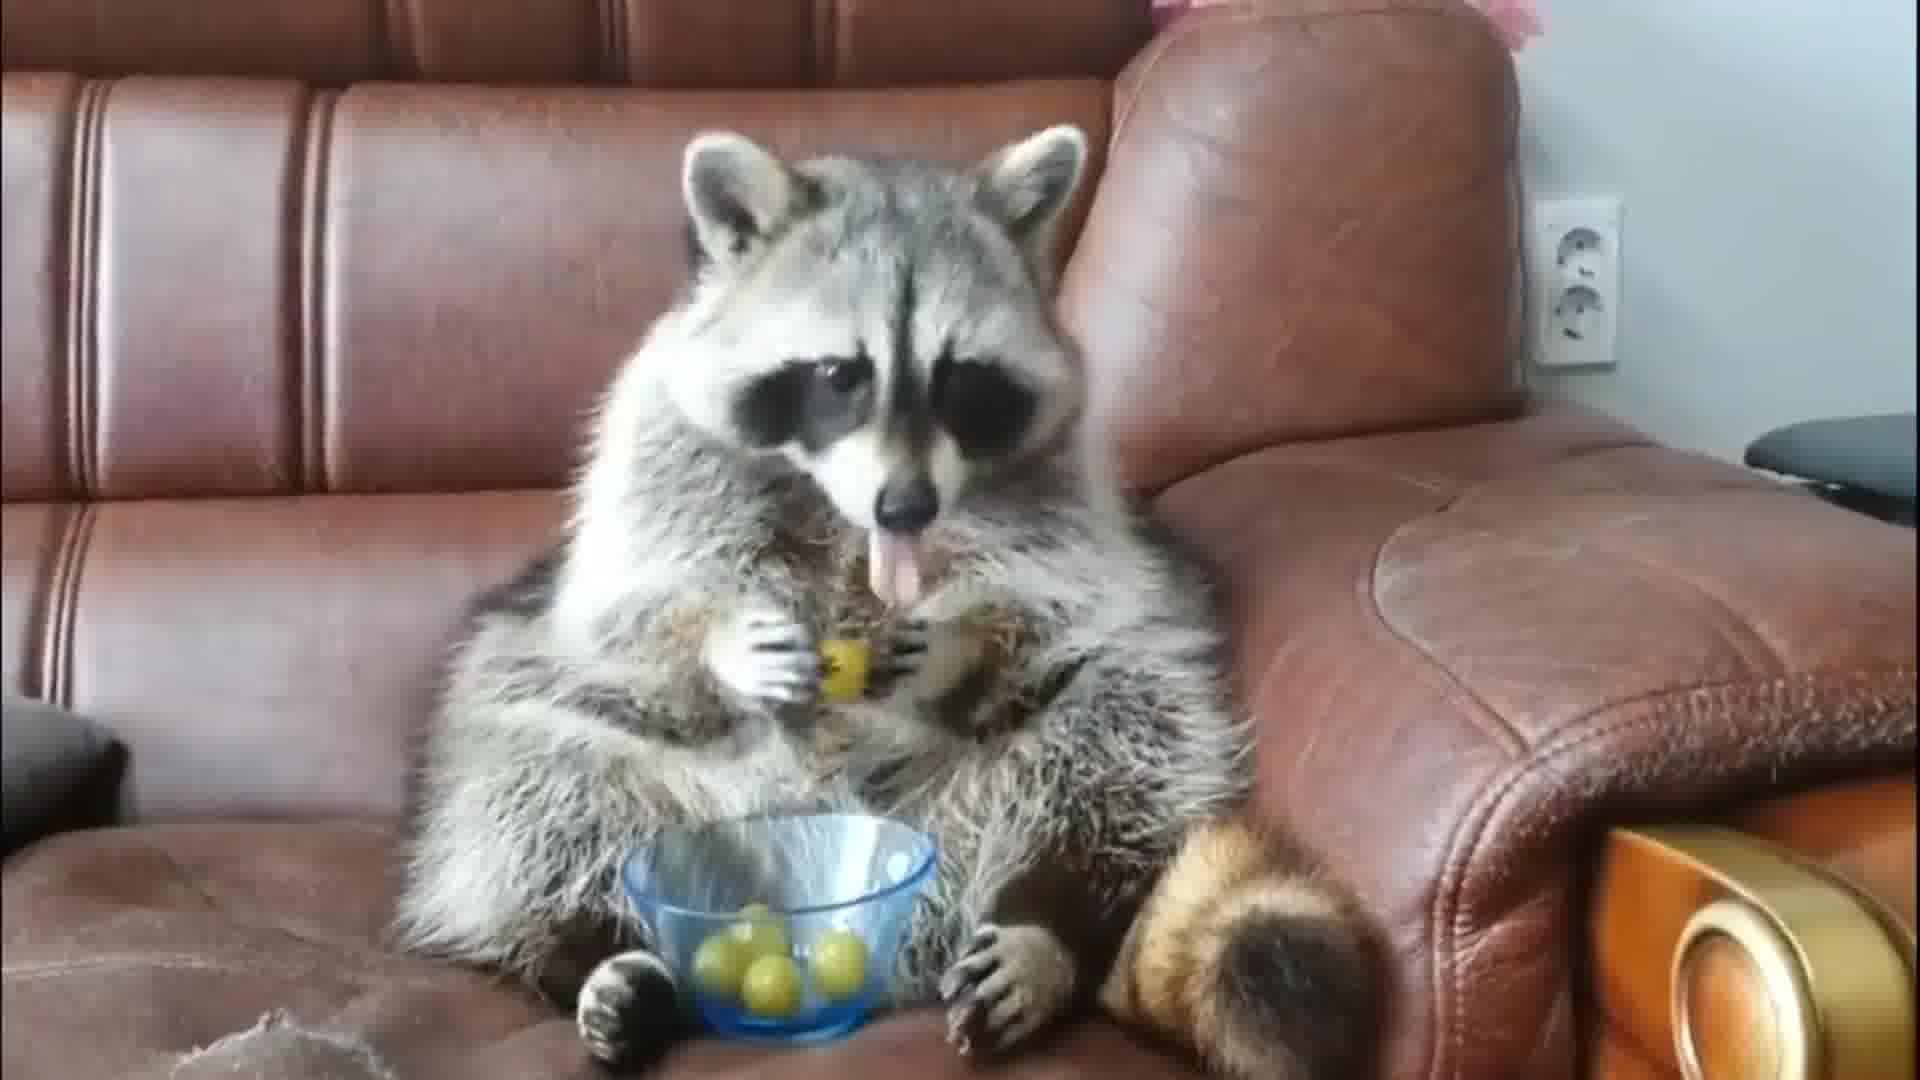raccoon: (401, 111, 1394, 1080)
